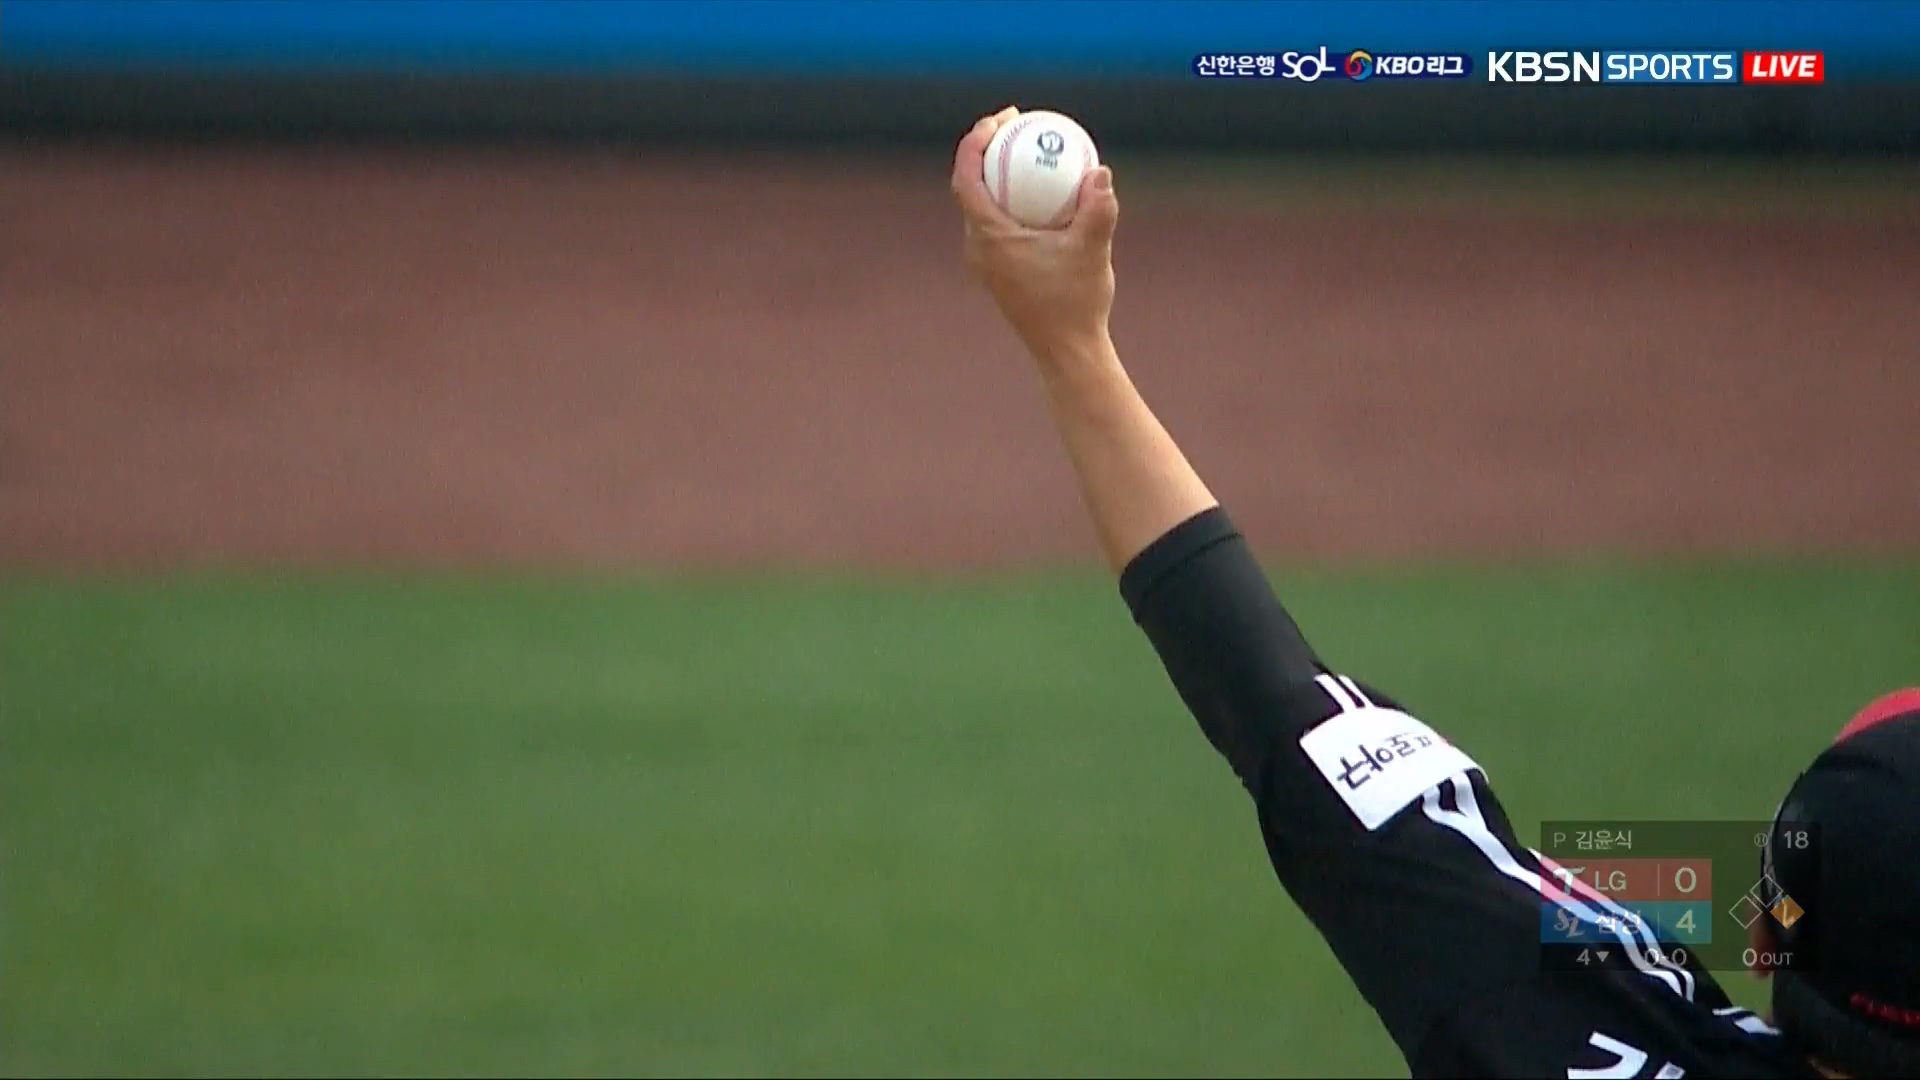zoomin_hand: (932, 94, 1349, 783)
